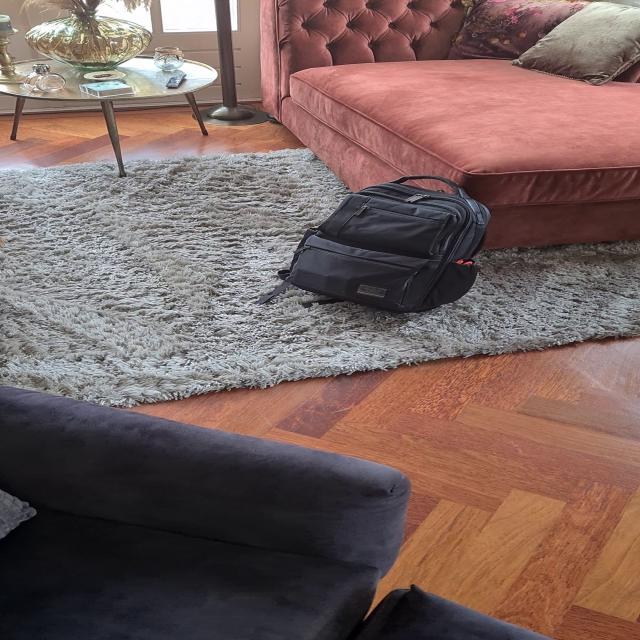backpack: (274, 170, 499, 318)
